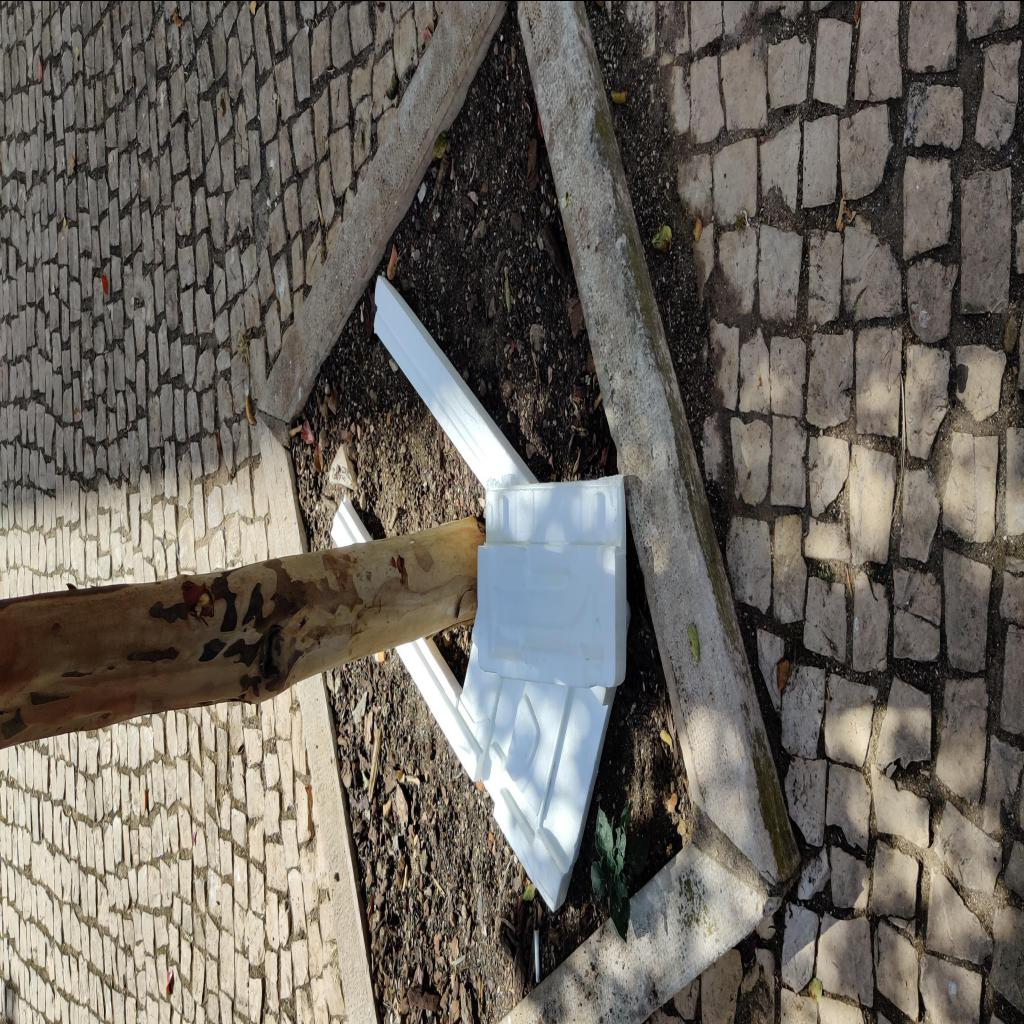Cigarette: (534, 928, 540, 982), (318, 198, 325, 226), (375, 650, 387, 662)
Styrofoam piece: (331, 276, 631, 912), (478, 474, 626, 688)
